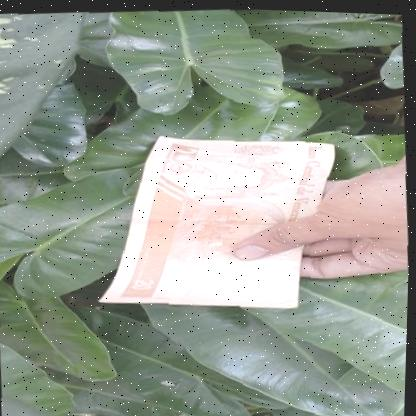twenty-back-vef: (89, 121, 347, 321)
